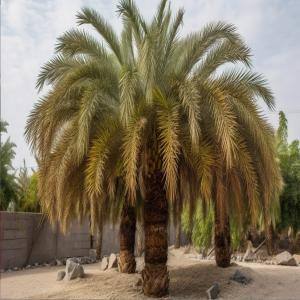palm tree: (23, 0, 283, 297)
